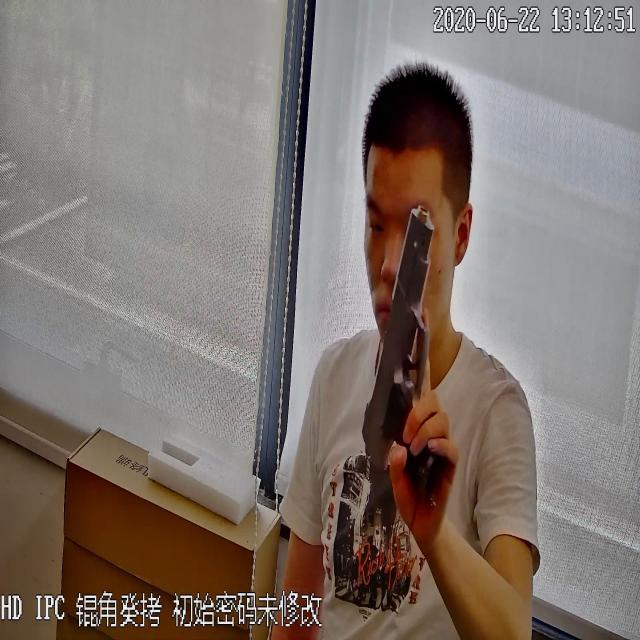gun-knife-thesis - v11 Yolov5 augmented: (355, 204, 468, 509)
